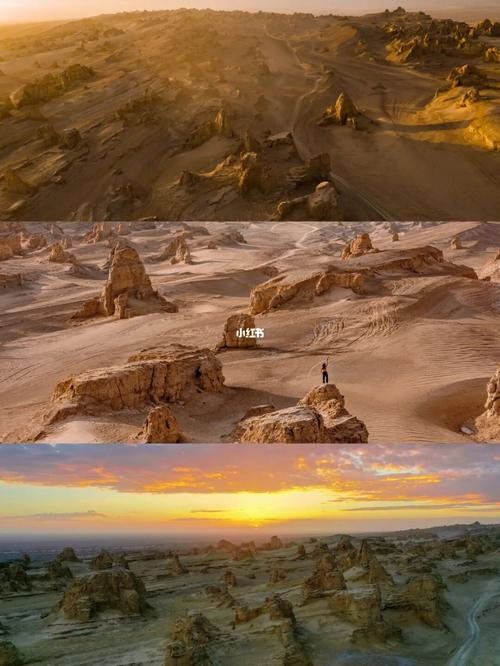mountain: (28, 16, 439, 207)
sea_river: (33, 442, 476, 509)
